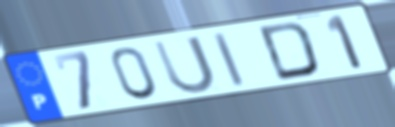0: (110, 46, 159, 102)
1: (325, 13, 367, 71)
7: (50, 49, 96, 113)
D: (256, 20, 323, 83)
I: (211, 30, 248, 89)
U: (150, 34, 219, 97)
